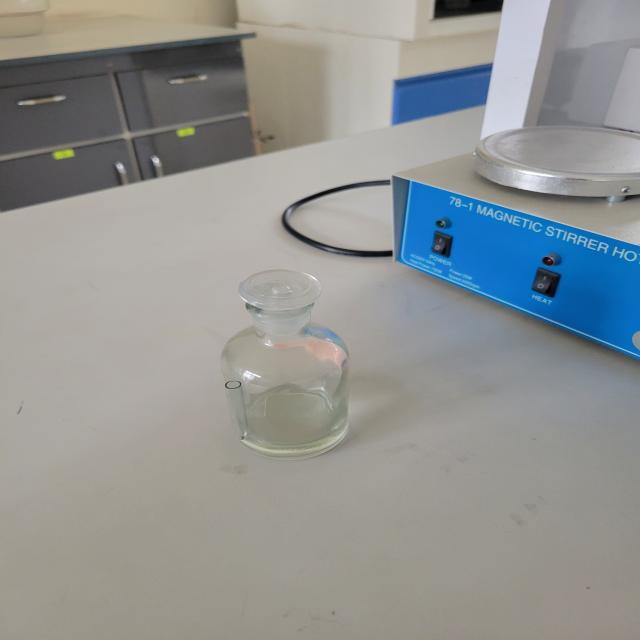Reagent_Bottle: (157, 245, 372, 493)
